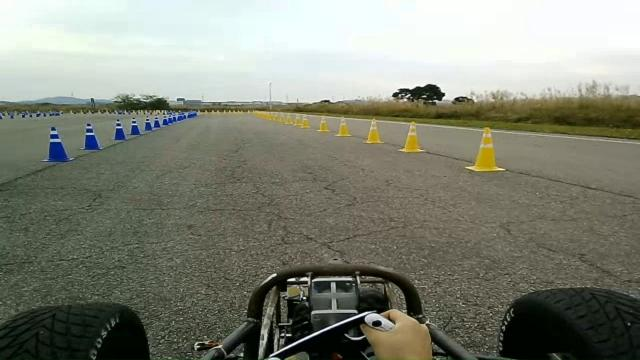blue cone: (40, 126, 75, 162), (78, 122, 102, 150), (110, 118, 128, 141), (129, 117, 142, 135), (143, 116, 153, 132), (152, 115, 161, 129), (177, 111, 186, 121), (161, 114, 168, 126), (187, 110, 197, 118)
yellow cone: (464, 126, 506, 172), (398, 120, 425, 152), (362, 117, 383, 144), (335, 116, 352, 136), (316, 115, 331, 132), (299, 114, 311, 128), (284, 114, 294, 124), (293, 115, 302, 126)
